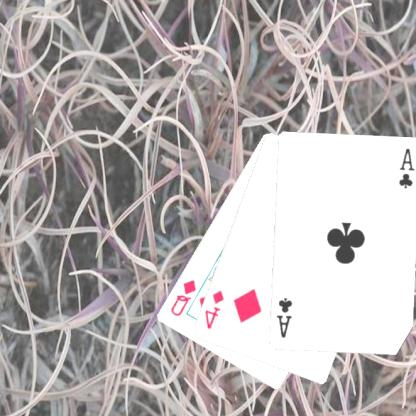4D: (203, 287, 227, 331)
AC: (275, 296, 295, 340), (397, 146, 416, 190)
QD: (169, 276, 199, 318)
